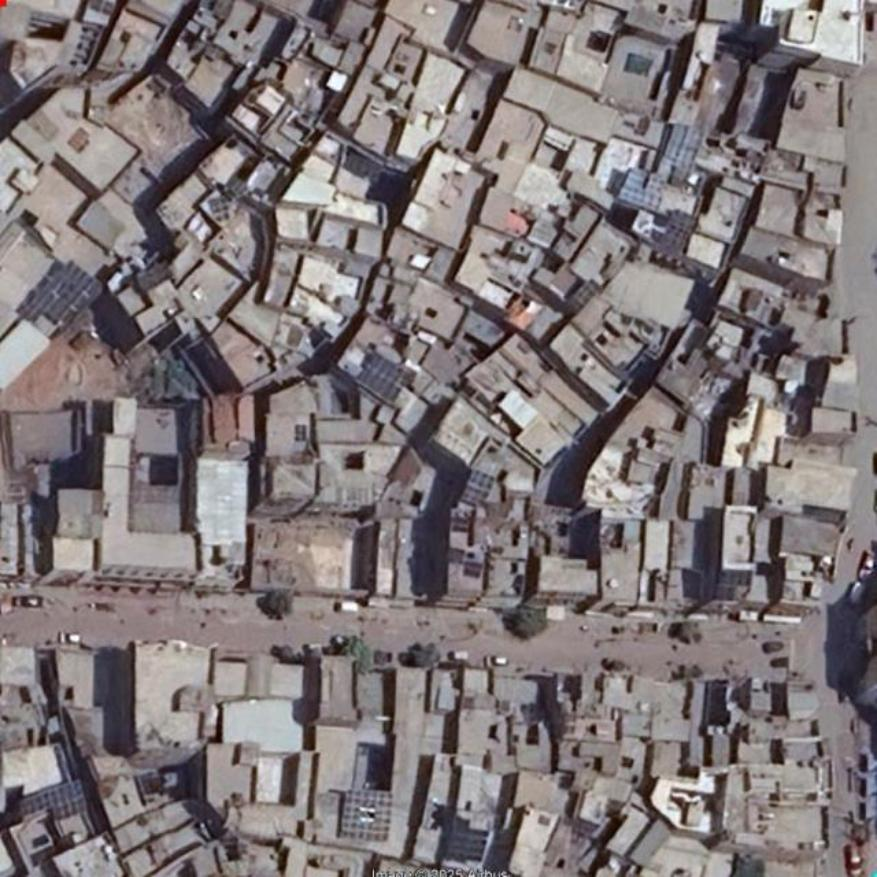Solarpanel: (17, 265, 104, 339), (18, 780, 87, 830), (340, 789, 393, 844), (356, 350, 403, 403), (620, 166, 665, 211), (658, 211, 697, 261), (446, 831, 490, 863), (461, 469, 494, 506)
